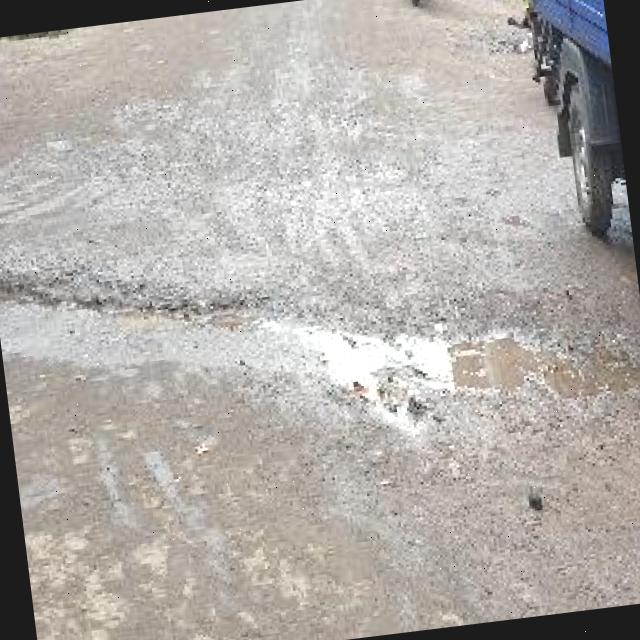stagnation: (264, 326, 608, 396)
